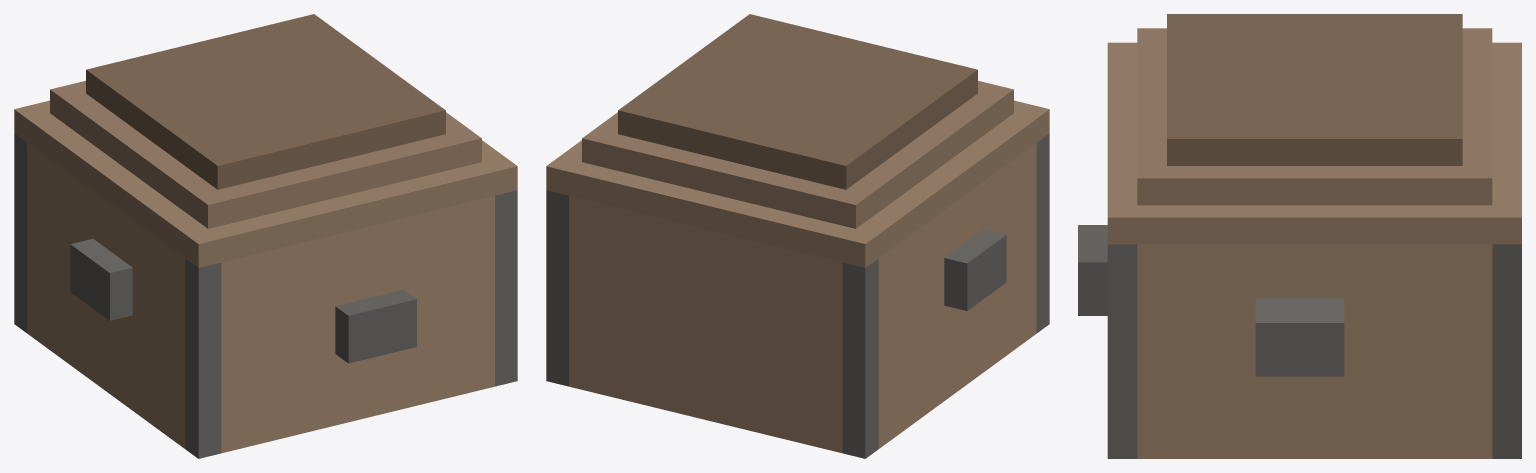
The model's file is arcon_desgastada_01.glb.
The picture shows the model from 3 angles, left to right: view 1: azimuth 30°, elevation 25°; view 2: azimuth 150°, elevation 25°; view 3: azimuth 270°, elevation 25°; orthographic projection. The views are drawn at different scales.
Parts seen in each view (by area): view 1: arcon_desgastada; view 2: arcon_desgastada; view 3: arcon_desgastada.
Boxes of the visible parts, x1,y1,x2,y2 form: arcon_desgastada: (14, 14, 517, 458); arcon_desgastada: (546, 14, 1049, 458); arcon_desgastada: (1078, 14, 1521, 458).
Bounding box in the file's own units: 1.21 × 0.7857 × 1.07.
